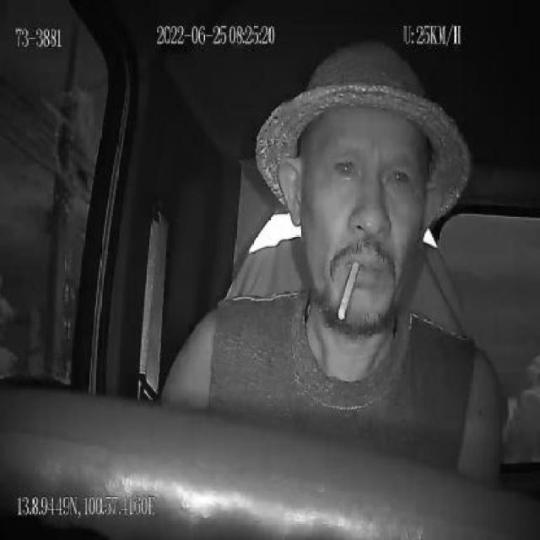smoking: (337, 258, 362, 321)
